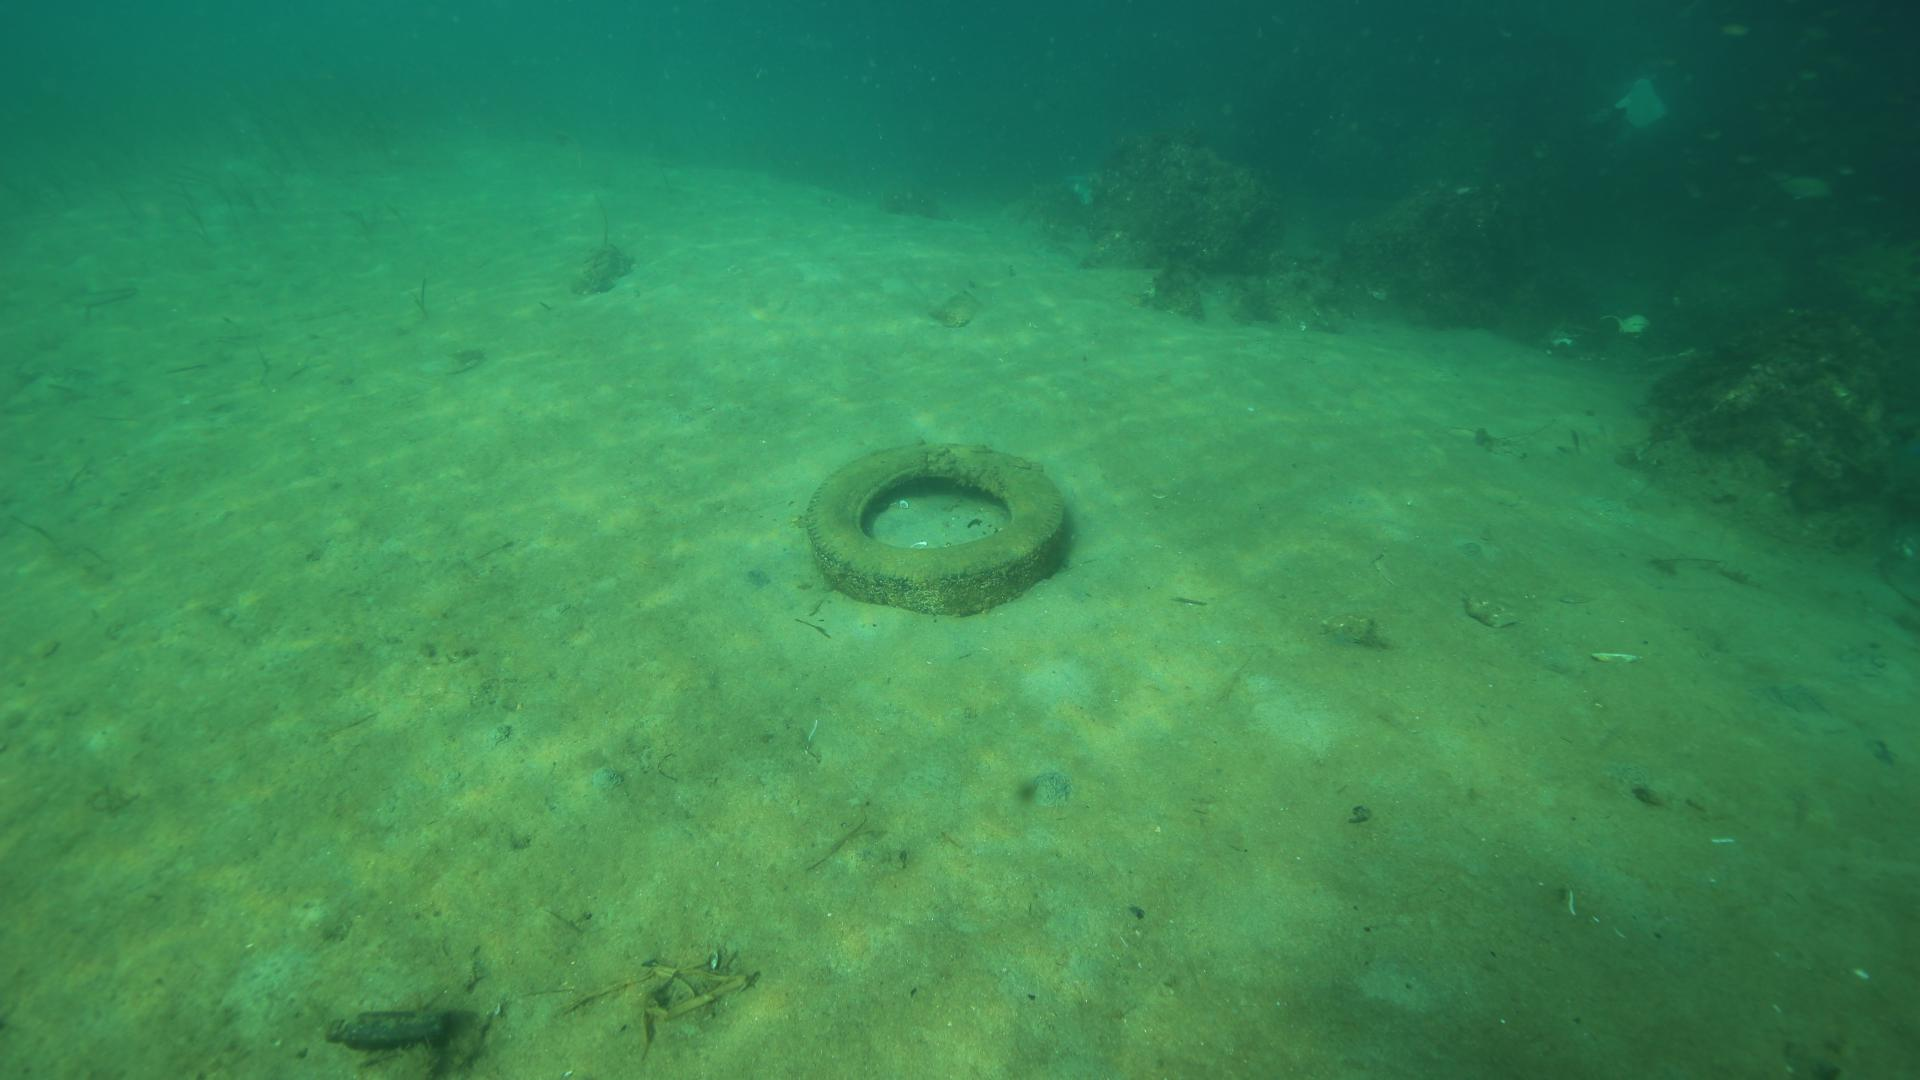tire: (802, 443, 1067, 618)
